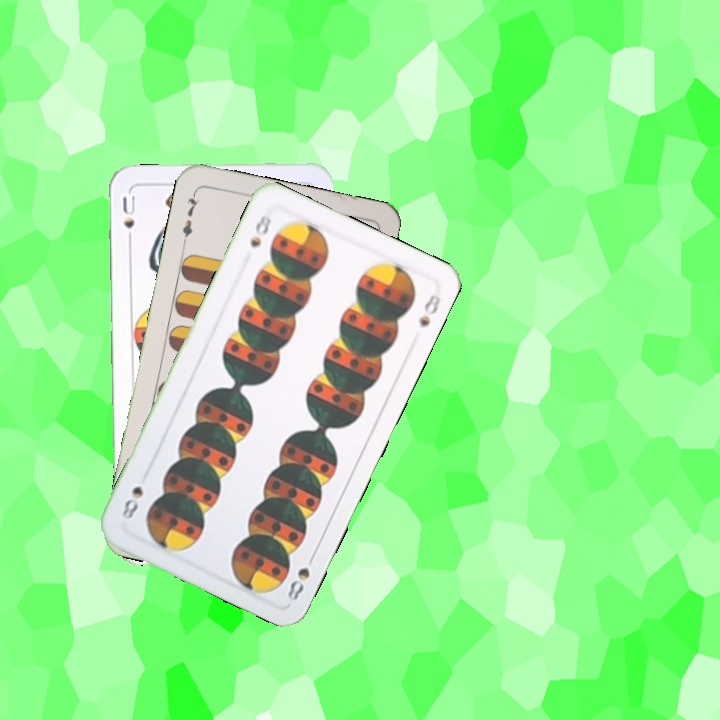E7: (178, 188, 202, 246)
S8: (283, 548, 319, 603), (245, 205, 274, 250)
SU: (118, 192, 138, 249)
